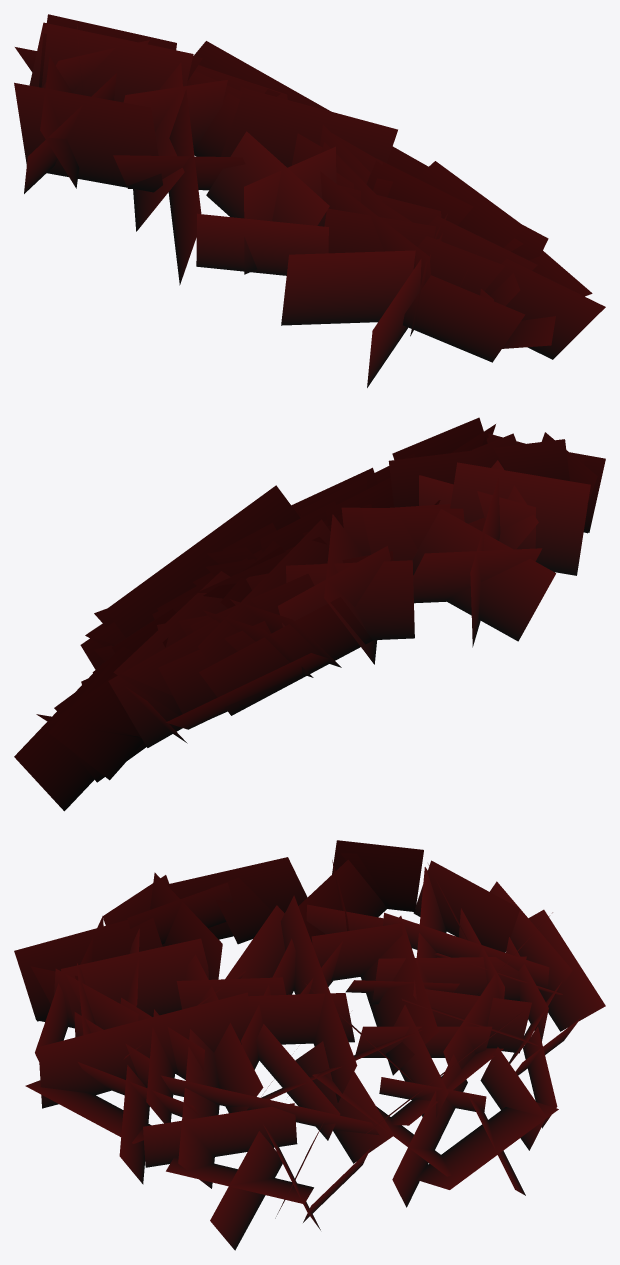
3 renders of one model, top to bottom at view 1: azimuth 30°, elevation 25°; view 2: azimuth 150°, elevation 25°; view 3: azimuth 270°, elevation 25°, orthographic. The views are drawn at different scales.
Parts seen in each view (by area): view 1: G:\FFXIV-MapTools\exports\d2f2\bg\ex1\02_dra_d2\fld\d2f2\bgp; view 2: G:\FFXIV-MapTools\exports\d2f2\bg\ex1\02_dra_d2\fld\d2f2\bgp; view 3: G:\FFXIV-MapTools\exports\d2f2\bg\ex1\02_dra_d2\fld\d2f2\bgp.
Boxes of the visible parts, x1,y1,x2,y2 form: G:\FFXIV-MapTools\exports\d2f2\bg\ex1\02_dra_d2\fld\d2f2\bgp: (14,14,605,387); G:\FFXIV-MapTools\exports\d2f2\bg\ex1\02_dra_d2\fld\d2f2\bgp: (14,417,605,811); G:\FFXIV-MapTools\exports\d2f2\bg\ex1\02_dra_d2\fld\d2f2\bgp: (14,840,605,1250).
Size of the model in its own units: 4.38 by 2.77 by 5.63.
